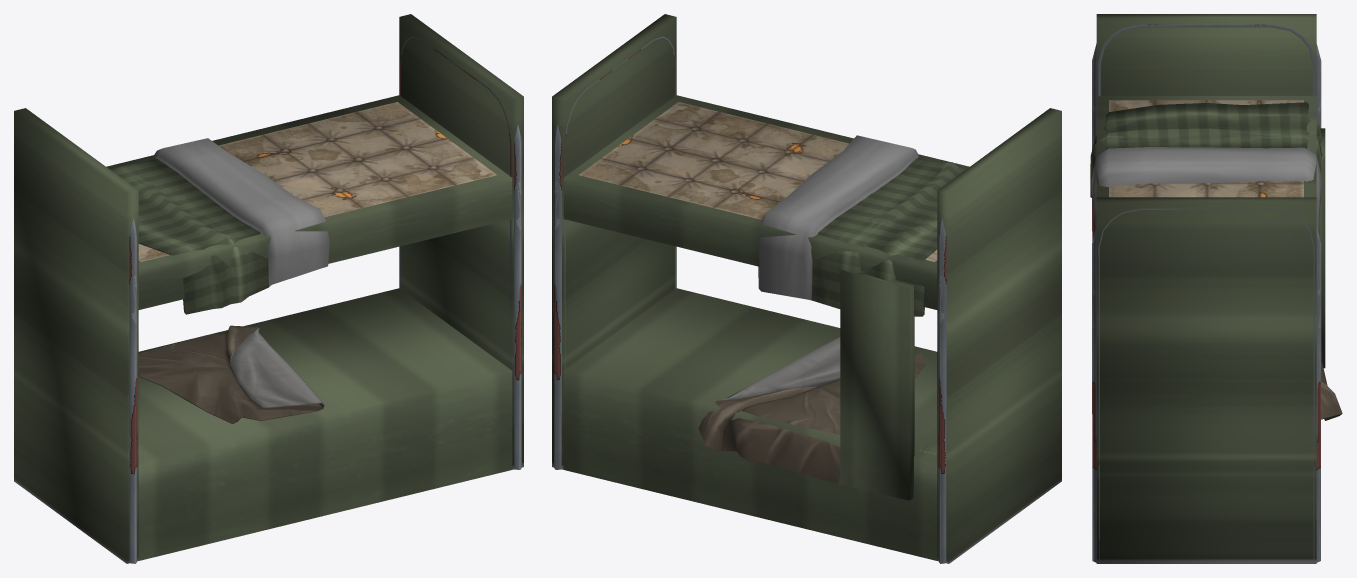
File: bed04_D.fbx
3 renders of one model, left to right at view 1: azimuth 30°, elevation 25°; view 2: azimuth 150°, elevation 25°; view 3: azimuth 270°, elevation 25°, orthographic. The views are drawn at different scales.
Parts seen in each view (by area): view 1: bed04_D_COL, bed04_D; view 2: bed04_D_COL, bed04_D; view 3: bed04_D_COL, bed04_D.
Part boxes in pixels (bbox=[...]): bed04_D_COL: bbox=[14, 14, 523, 563]; bed04_D: bbox=[110, 36, 522, 563]; bed04_D_COL: bbox=[552, 14, 1061, 563]; bed04_D: bbox=[553, 36, 965, 563]; bed04_D_COL: bbox=[1096, 14, 1325, 563]; bed04_D: bbox=[1090, 24, 1342, 563].
Bounding box in the file's own units: 216 × 192 × 122.
